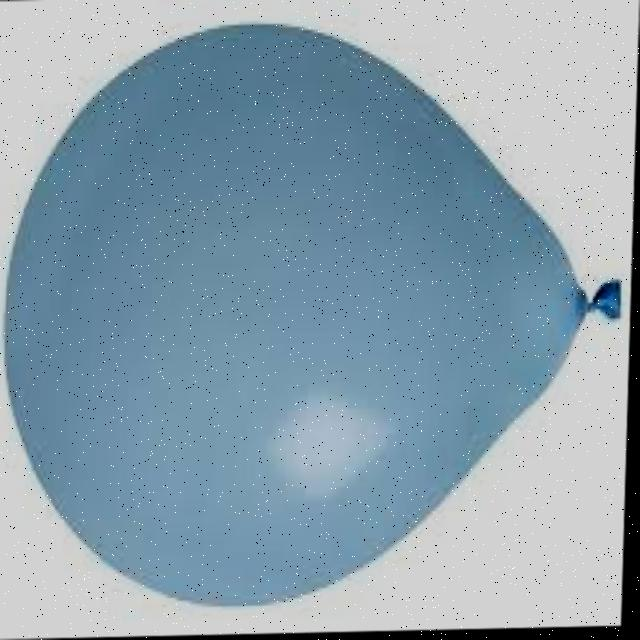balloon: (0, 11, 629, 631)
